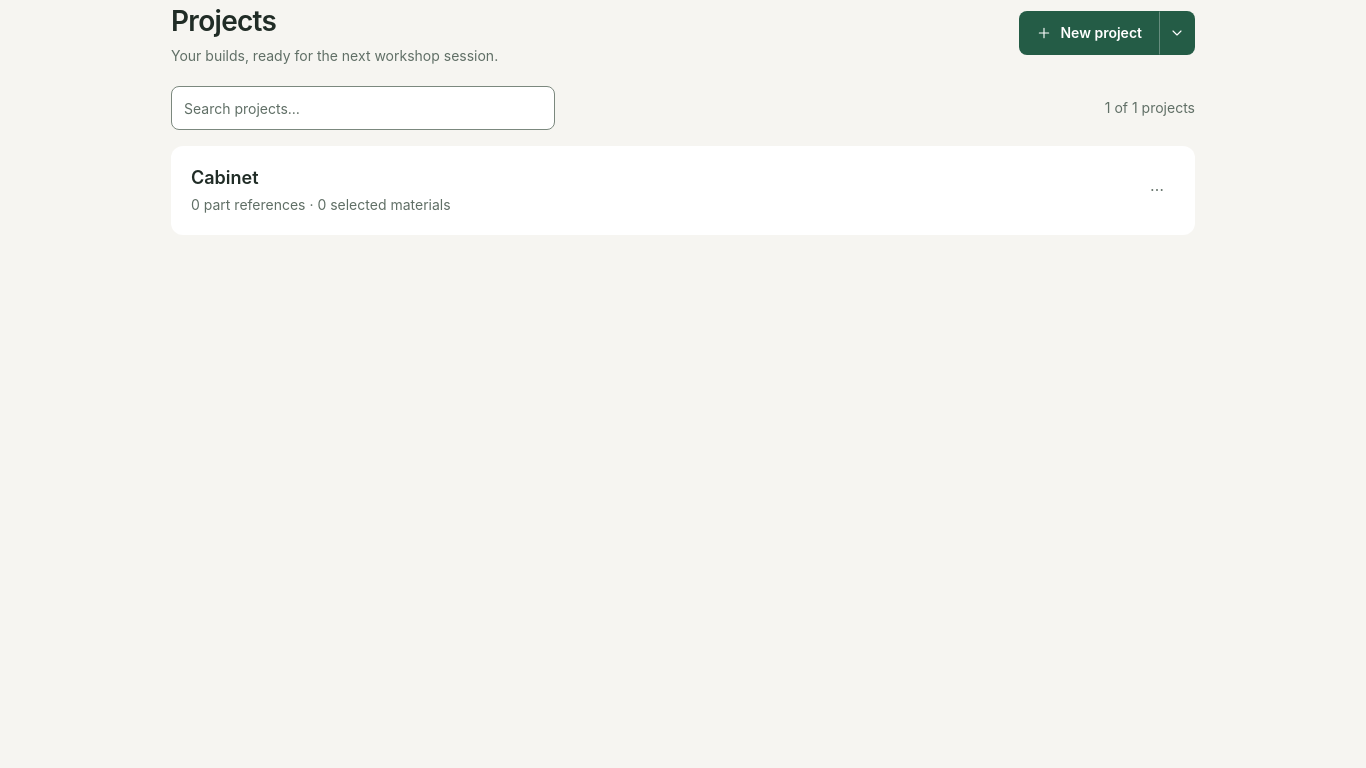
Project manager › keeps Delete project independent from row navigation
Click the button named "Actions for Cabinet": (1157, 190) [1139, 172, 1175, 208]
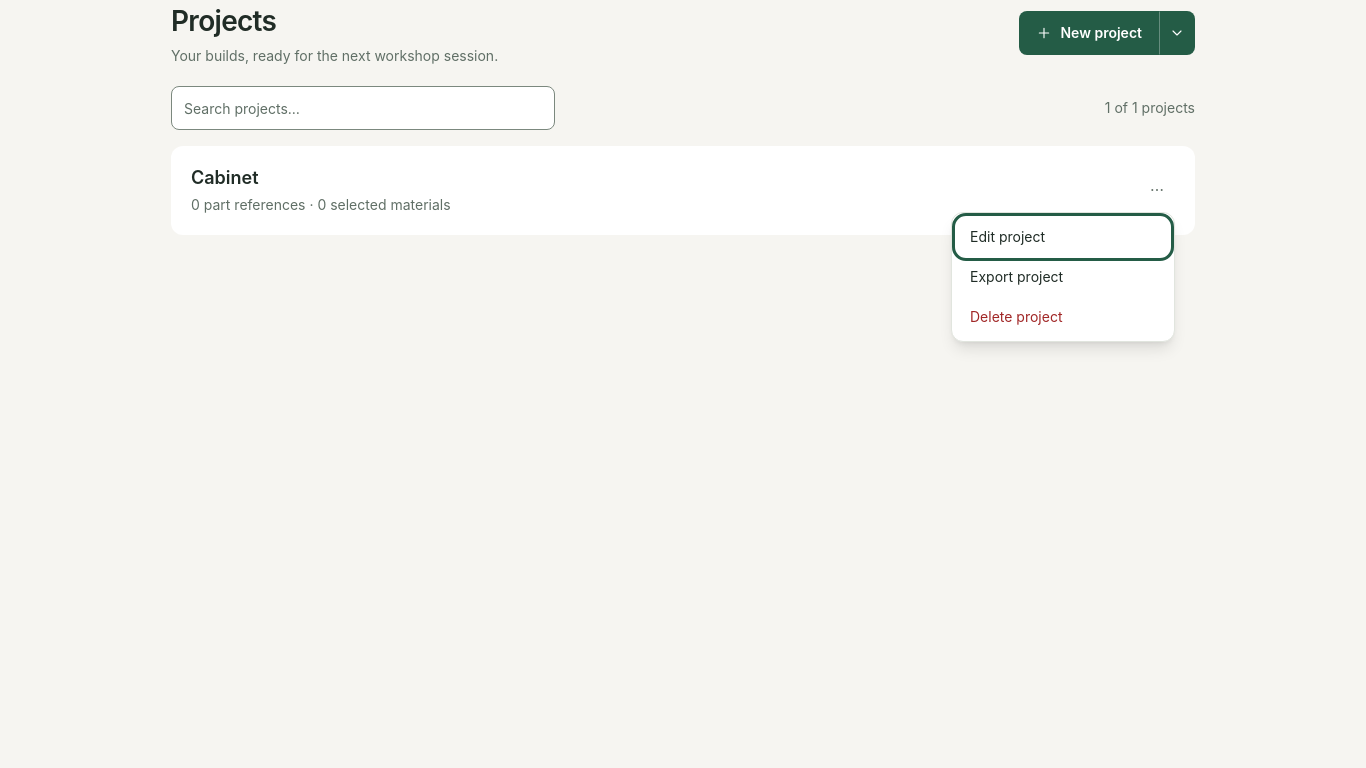
Click the menu item "Delete project": (1063, 317) [958, 299, 1168, 335]
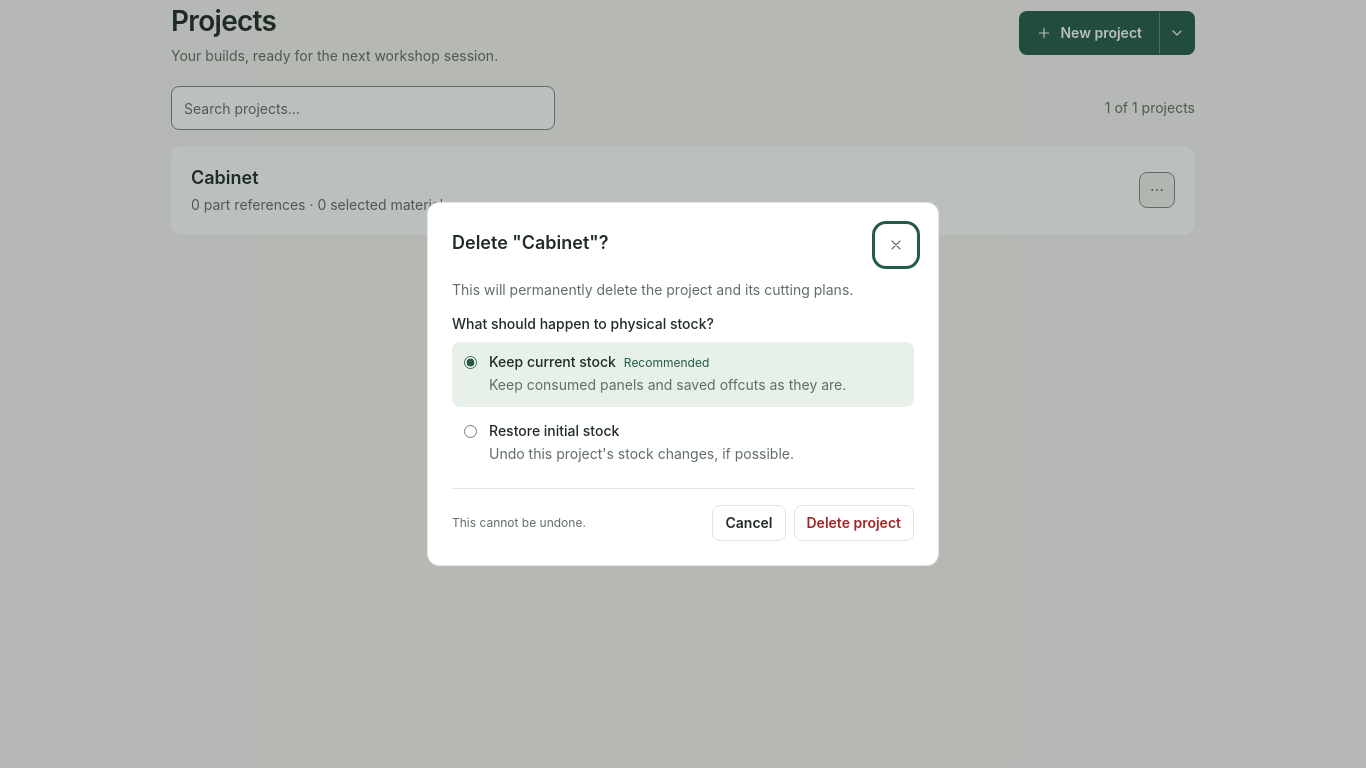
Now the dialog is shown, box [427, 202, 939, 566]
